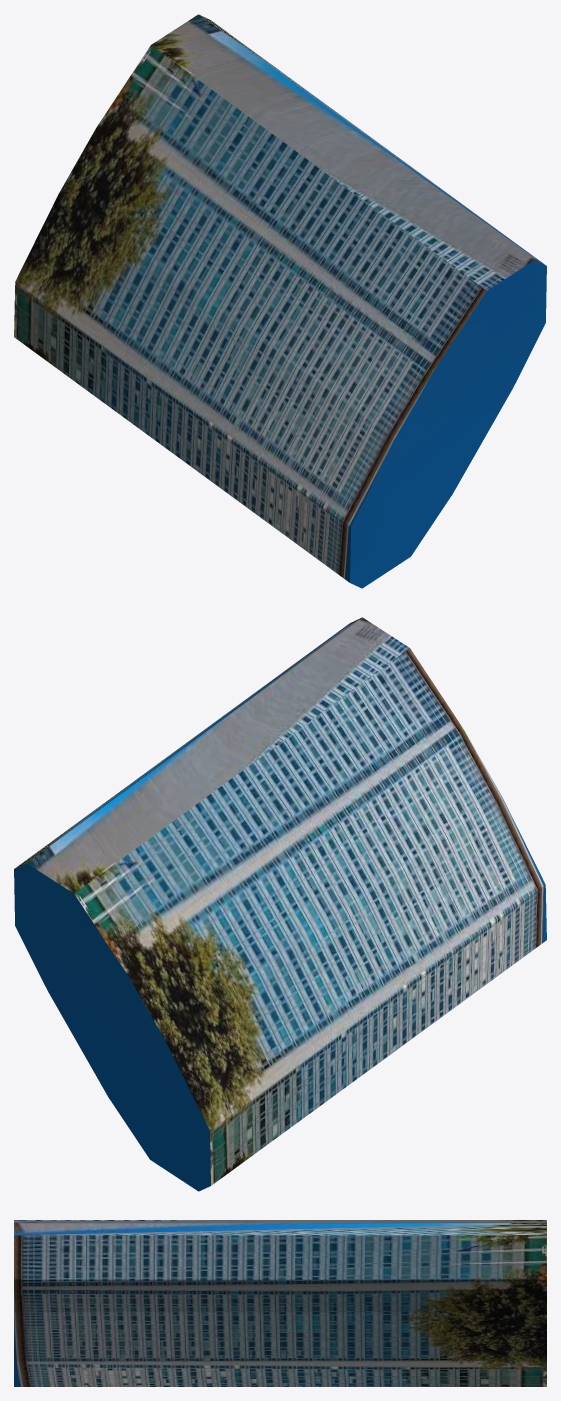
File: pirelli_uv_basic.glb
3 views of the same model, one above another, from view 1: azimuth 30°, elevation 25°; view 2: azimuth 150°, elevation 25°; view 3: azimuth 270°, elevation 25° (orthographic). The views are drawn at different scales.
Visible parts, largest first — view 1: Grattacielo Pirelli; view 2: Grattacielo Pirelli; view 3: Grattacielo Pirelli.
Part boxes in pixels (x1,y1,x2,y2): Grattacielo Pirelli: [14, 14, 546, 588]; Grattacielo Pirelli: [14, 617, 546, 1191]; Grattacielo Pirelli: [14, 1220, 546, 1386].
Size of the model in its own units: 43.06 by 59.8 by 127.
1 material, 1 textured.
